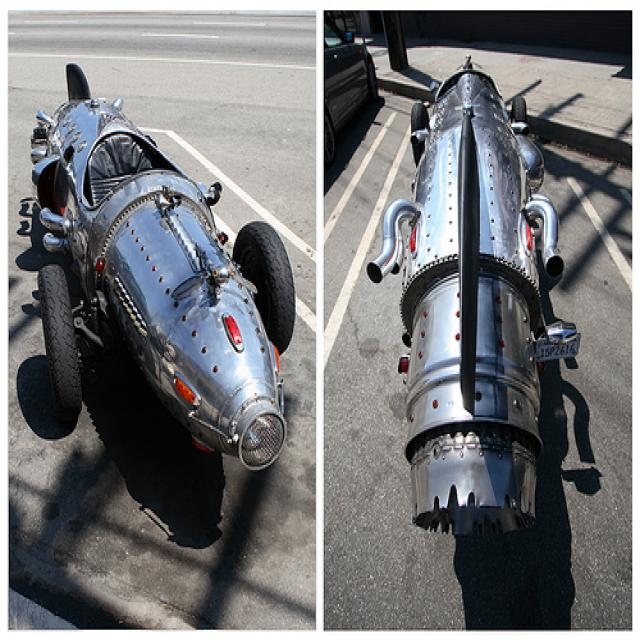Car: (26, 80, 300, 501), (378, 53, 570, 557)
